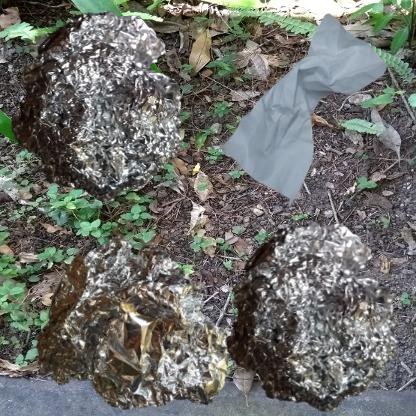aluminio: (10, 213, 252, 416), (213, 213, 407, 416), (10, 10, 183, 203)
papel: (213, 10, 395, 213)
